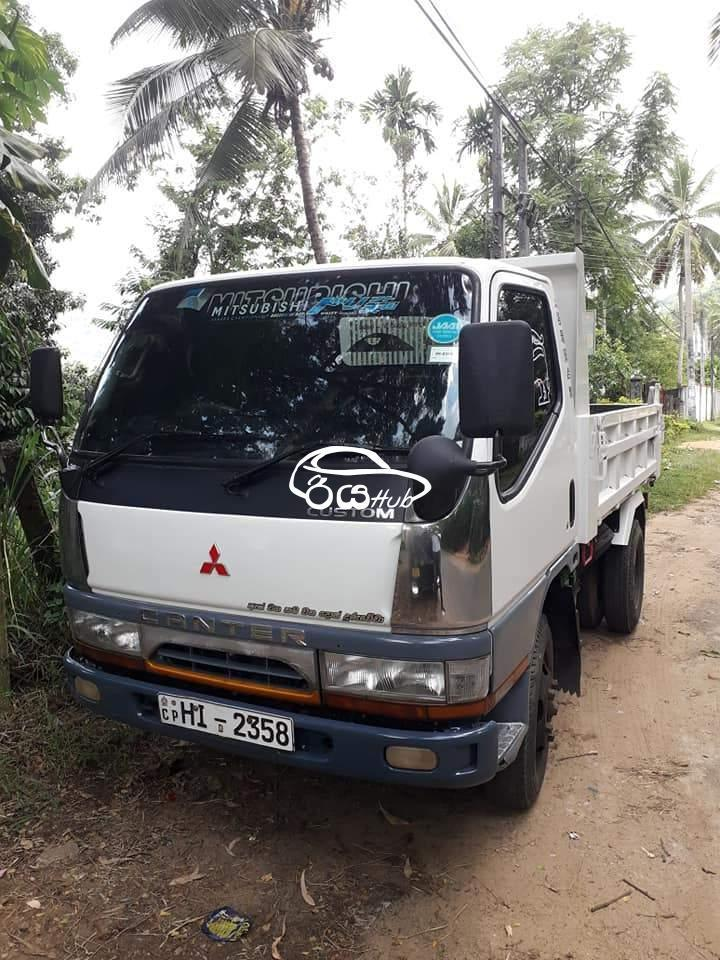license-plate: (153, 691, 293, 754)
